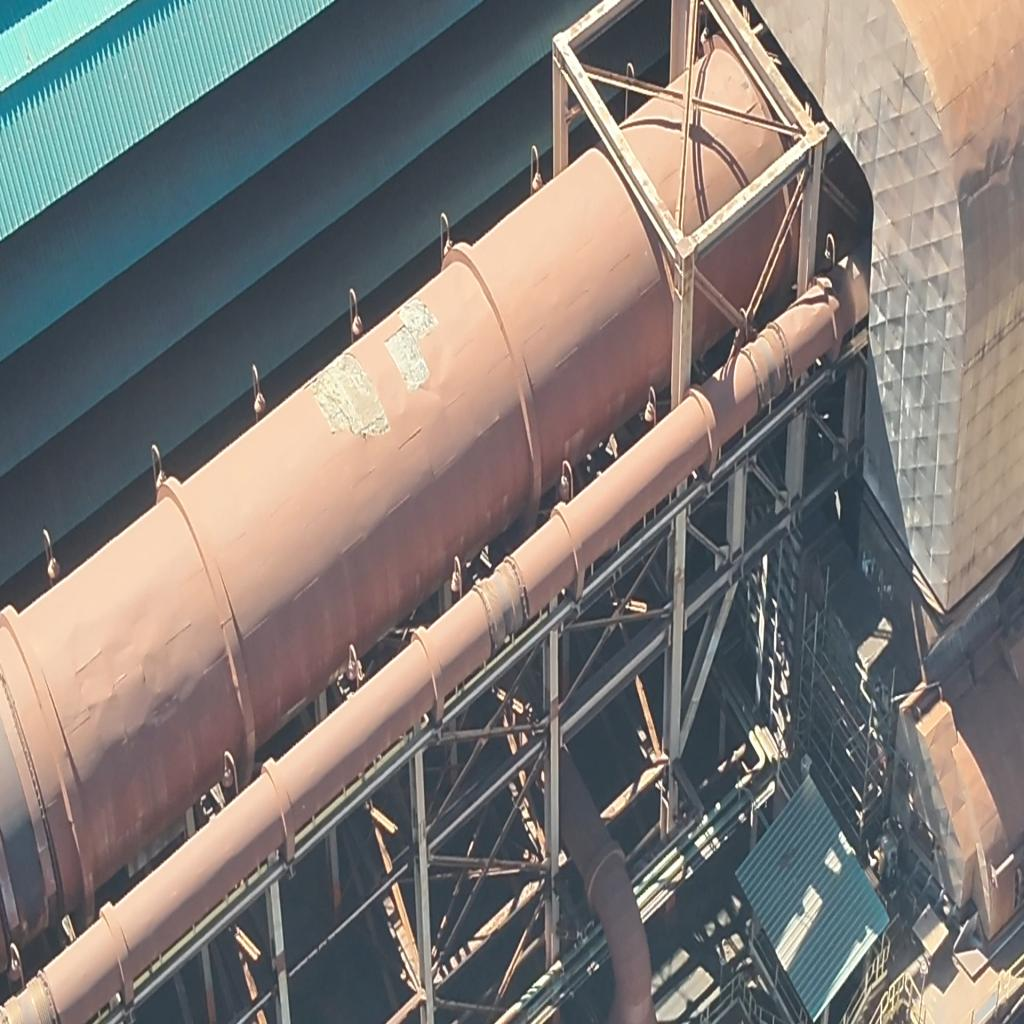Failures: (312, 356, 392, 439), (386, 324, 430, 393), (397, 292, 438, 338)
